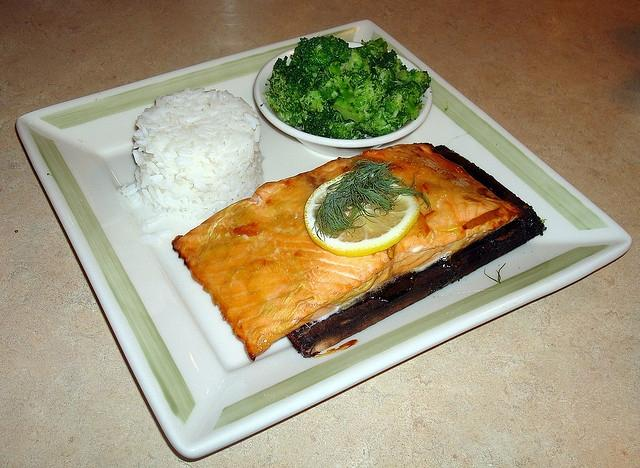broccoli: (301, 35, 352, 76), (302, 114, 357, 140), (284, 65, 314, 106), (354, 112, 396, 138), (396, 68, 431, 95), (326, 74, 356, 103), (354, 70, 379, 98), (372, 64, 396, 90), (349, 48, 367, 73), (383, 93, 404, 113), (332, 110, 354, 124), (320, 100, 334, 119), (378, 106, 393, 122), (284, 110, 294, 120)
lemon: (304, 170, 420, 258)
